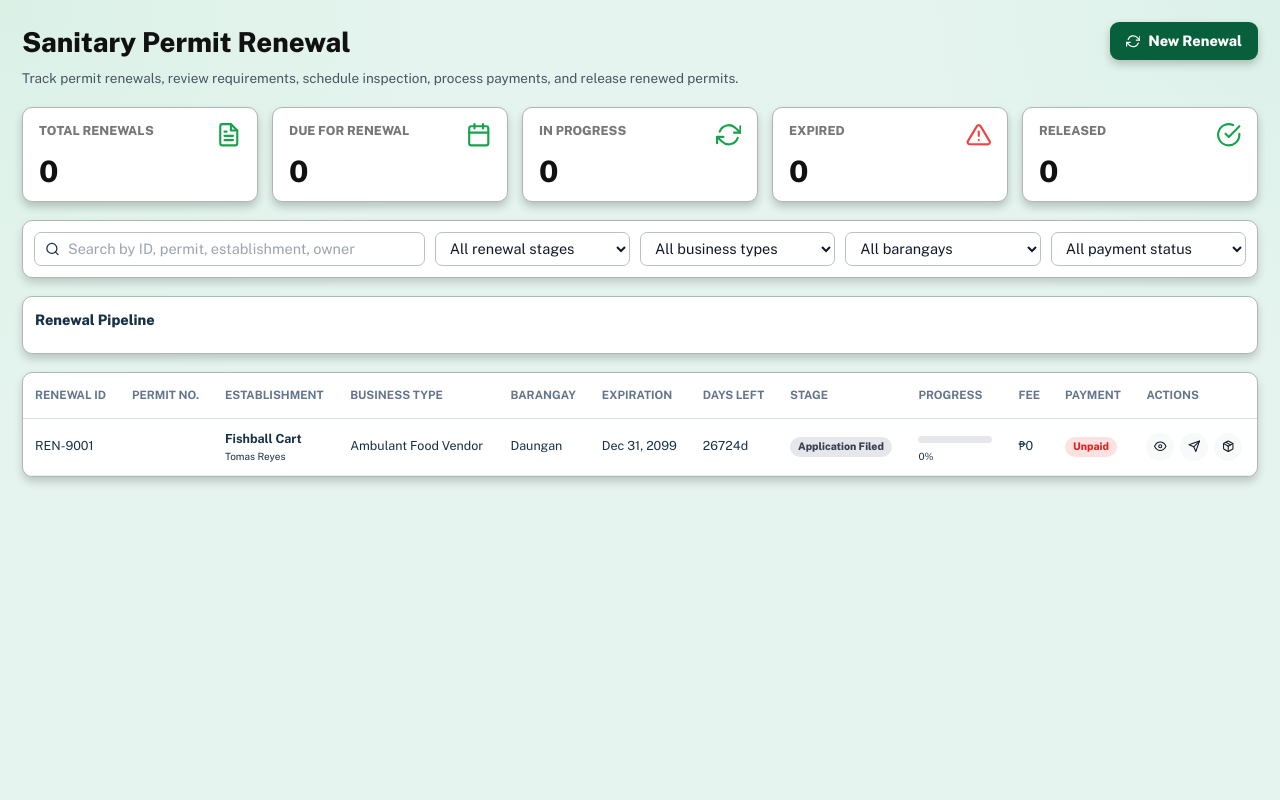
it: New Renewal form › shows an empty state for a type with no configured requirements
Click the button "New Renewal". click: (1184, 41)
box: [1110,22,1258,60]
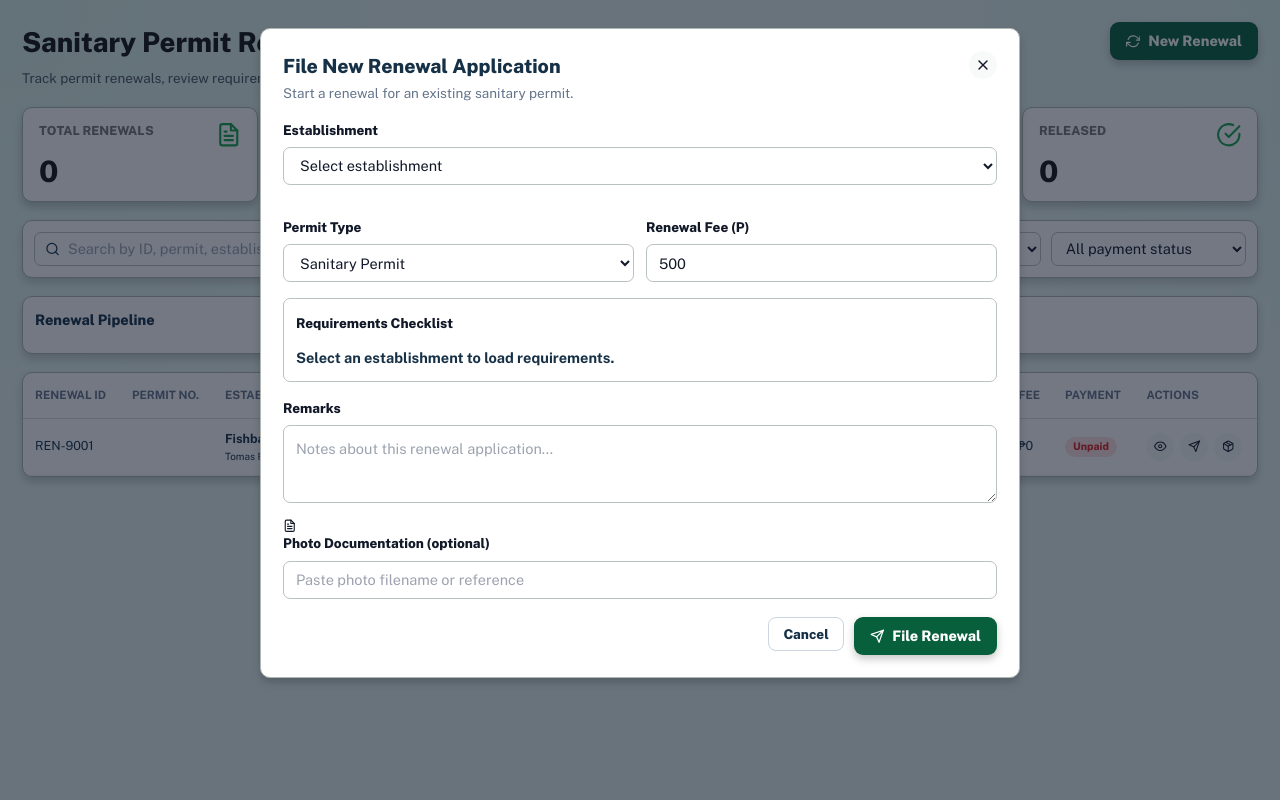
Select "Fishball Cart" in the dropdown labelled "Establishment". click: (640, 166)
box: [283,147,997,185]
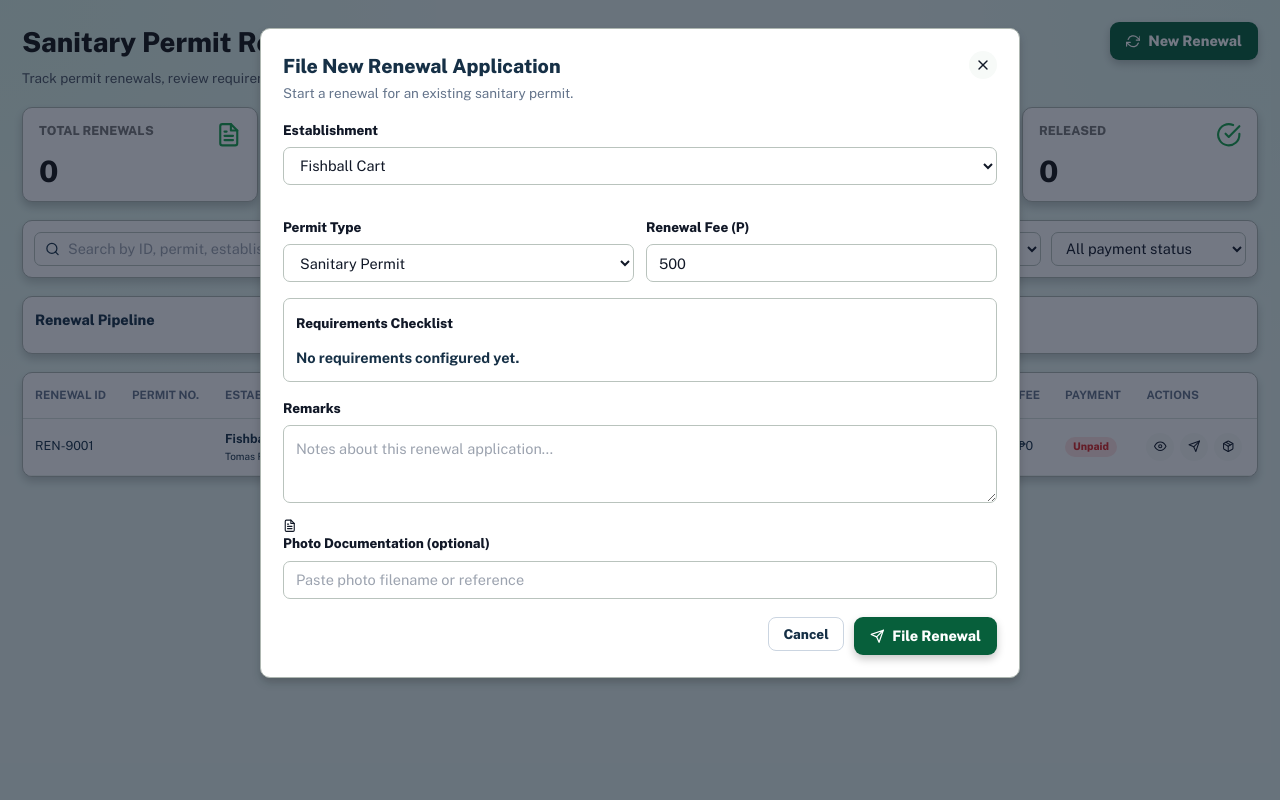
Expected: the text "No requirements configured yet." is shown, [296,349,519,366]
